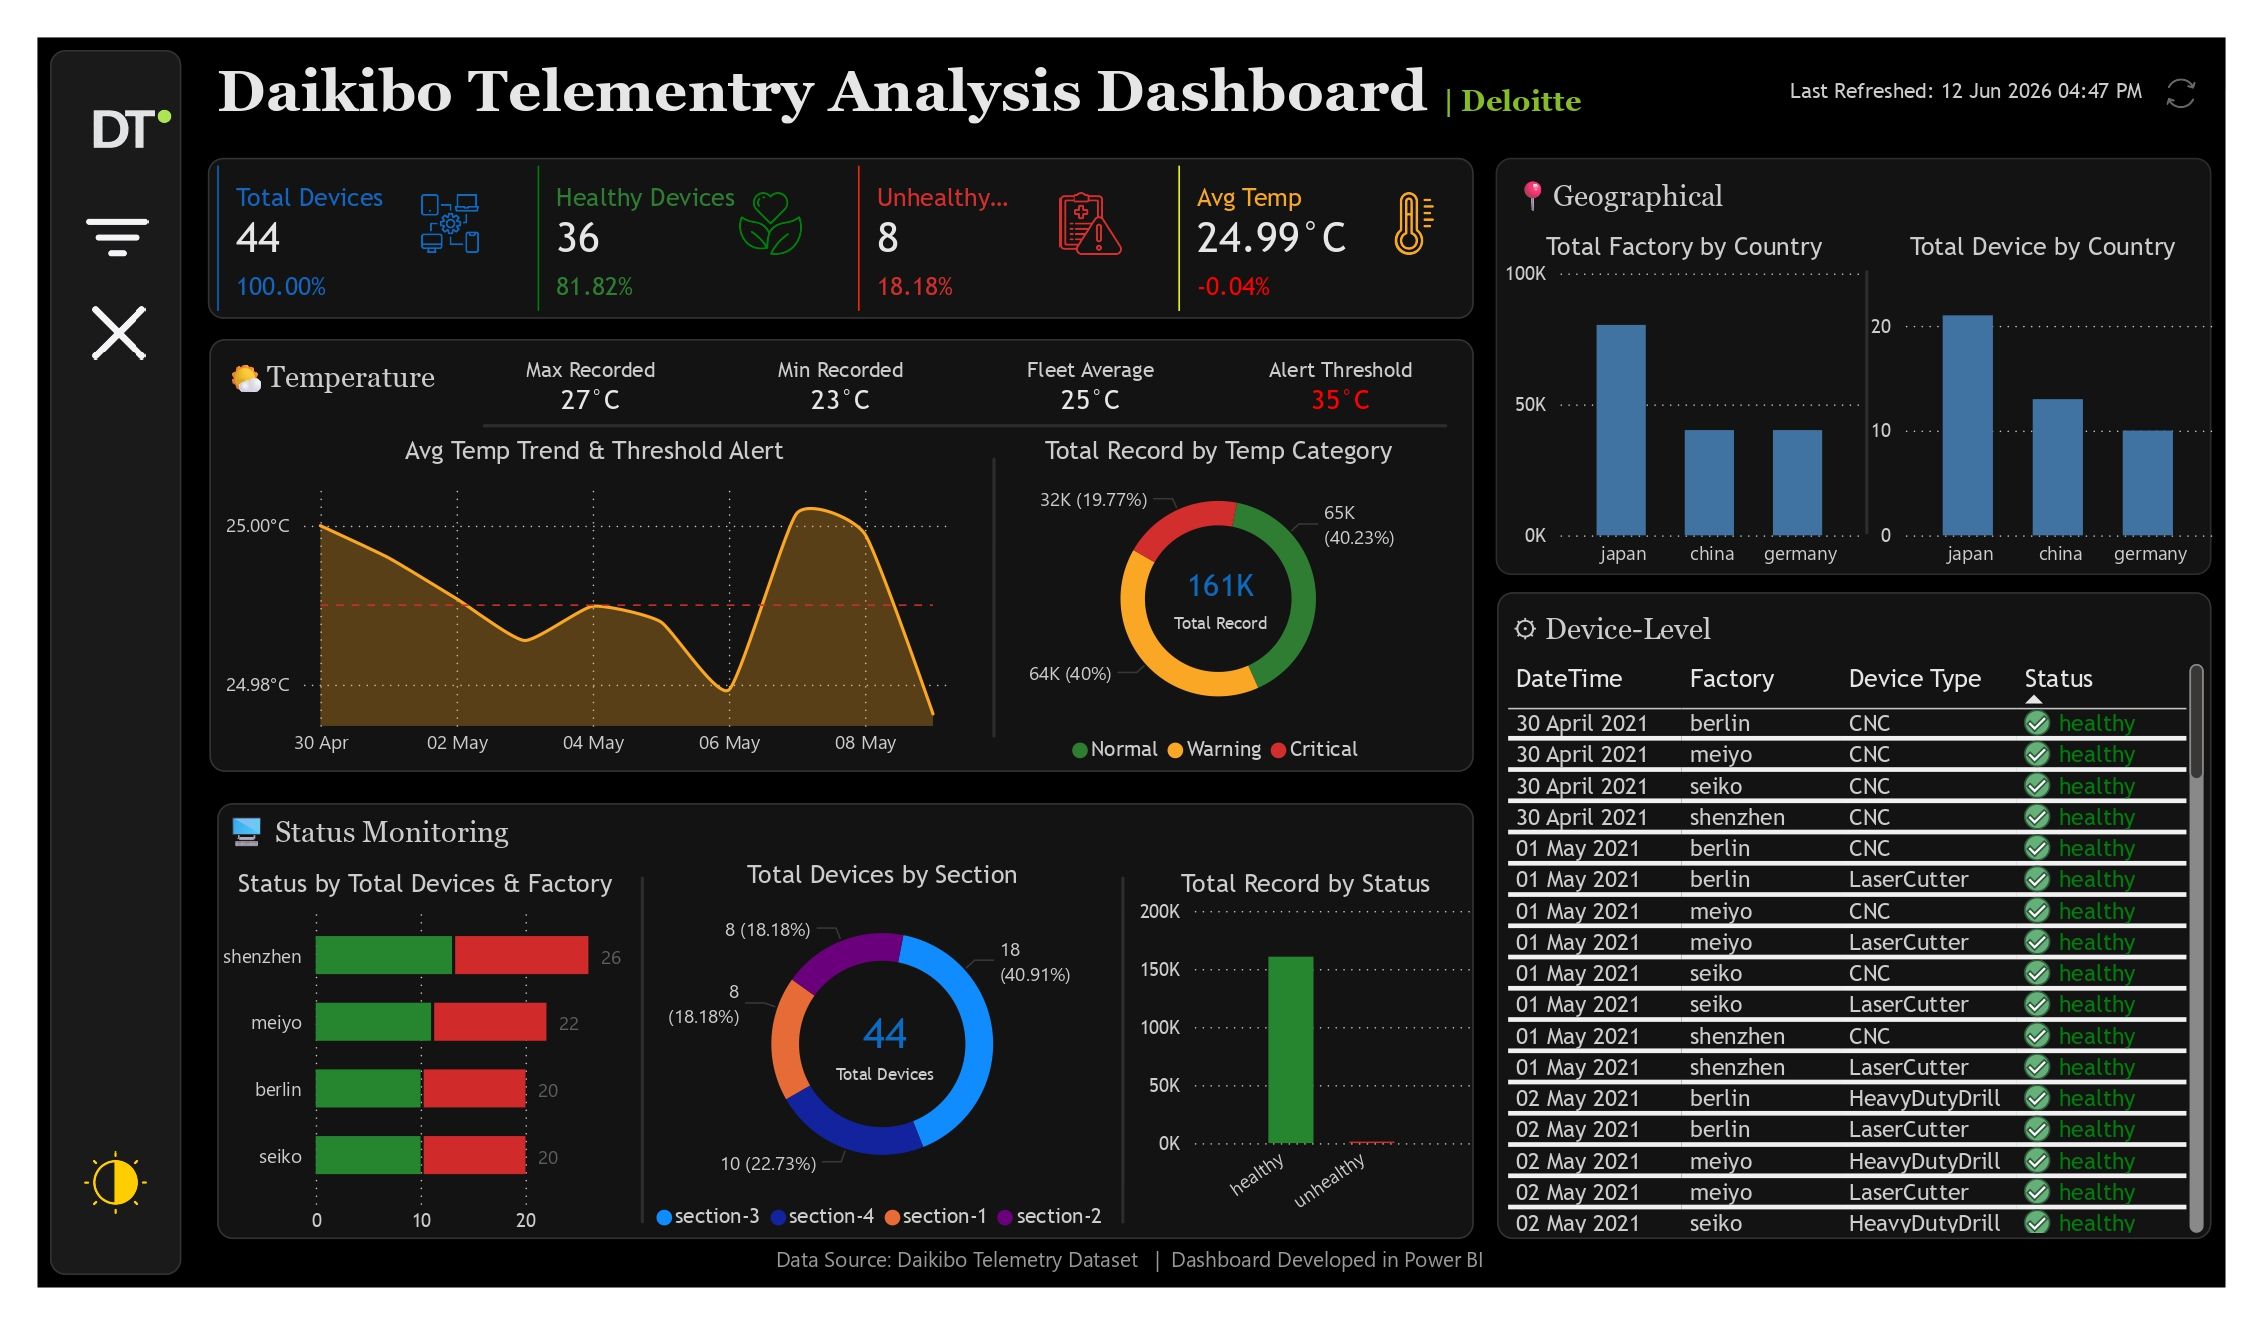

The dashboard page shown, as its layout file describes it:
{"tool":"powerbi","page":{"name":"Dashboard","canvas":[1400,800],"ordinal":0},"visuals":[{"type":"shape","box":[933.8,355.4,457.5,413.4],"z":0},{"type":"shape","box":[110,192.5,808.8,277],"z":1000},{"type":"shape","box":[8.3,8.3,83.3,783.3],"z":2000},{"type":"shape","box":[109.5,77,809.5,102.7],"z":3000},{"type":"textbox","box":[110,8.3,918.3,52],"z":4000},{"type":"shape","box":[932.6,76.9,458.7,267.2],"z":5000},{"type":"shape","box":[110,484.3,808.6,284.3],"z":6000},{"type":"textbox","box":[115.7,198.6,152.9,37.1],"z":7000},{"type":"textbox","box":[115.7,490,200,35.7],"z":8000},{"type":"textbox","box":[938.9,83.2,160.1,35.3],"z":9000},{"type":"textbox","box":[938.9,360.4,147.4,35.3],"z":10000},{"type":"image","box":[0,0,99,99],"z":11000},{"type":"cardVisual","fields":{"Data":["daikibo-telemetry-data.Total Devices","daikibo-telemetry-data.Healthy Devices","daikibo-telemetry-data.Unhealthy Devices","daikibo-telemetry-data.Avg Temperature"]},"box":[109.5,77,791.9,102.7],"z":12000},{"type":"cardVisual","fields":{"Data":["daikibo-telemetry-data.Max Recorded","daikibo-telemetry-data.Min Recorded","daikibo-telemetry-data.Fleet Average","daikibo-telemetry-data.Alert Threshold"]},"box":[268.6,192.9,650,55.7],"z":13000},{"type":"tableEx","fields":{"Values":["daikibo-telemetry-data.DateTime","daikibo-telemetry-data.Factory","daikibo-telemetry-data.Device Type","daikibo-telemetry-data.Status"]},"box":[935.1,395.7,456.2,374.3],"z":14000},{"type":"columnChart","title":"Total Factory by Country","fields":{"Category":["daikibo-telemetry-data.Country"],"Y":["CountNonNull(daikibo-telemetry-data.Factory)"]},"box":[933.8,118.5,234.4,225.6],"z":15000},{"type":"areaChart","title":"Avg Temp Trend & Threshold Alert","fields":{"Category":["daikibo-telemetry-data.DateTime"],"Y2":["daikibo-telemetry-data.Alert Threshold"],"Y":["daikibo-telemetry-data.Avg Temperature"]},"box":[115,255,478.3,215],"z":16000},{"type":"donutChart","title":"Total Record by Temp Category","fields":{"Y":["daikibo-telemetry-data.Device Count"],"Category":["daikibo-telemetry-data.Temp Category"]},"box":[593.3,255,325,215],"z":17000},{"type":"card","fields":{"Values":["daikibo-telemetry-data.Device Count"]},"box":[711.7,328.3,90,60],"z":18000},{"type":"shape","box":[605.6,269,12.7,178.9],"z":19000},{"type":"shape","box":[285,241.7,616.7,13.3],"z":20000},{"type":"barChart","title":"Status by Total Devices & Factory","fields":{"Category":["daikibo-telemetry-data.Factory"],"Y":["daikibo-telemetry-data.Total Devices"],"Series":["daikibo-telemetry-data.Status"]},"box":[109.6,525.5,271,243.2],"z":21000},{"type":"shape","box":[380.6,536.9,12.6,221.8],"z":22000},{"type":"columnChart","title":"Total Device by Country","fields":{"Category":["daikibo-telemetry-data.Country"],"Y":["daikibo-telemetry-data.Total Devices"]},"box":[1168.2,118.5,224.3,225.6],"z":23000},{"type":"shape","box":[1164.5,148.7,12.6,168.9],"z":24000},{"type":"donutChart","fields":{"Category":["daikibo-telemetry-data.Section","daikibo-telemetry-data.Device Type"],"Y":["daikibo-telemetry-data.Total Devices"]},"box":[393.2,525.5,294.9,243.2],"z":25000},{"type":"card","fields":{"Values":["daikibo-telemetry-data.Total Devices"]},"box":[496.7,611.7,90,63.3],"z":26000},{"type":"shape","box":[688.2,537.4,12.7,221.8],"z":27000},{"type":"columnChart","title":"Total Record by Status","fields":{"Category":["daikibo-telemetry-data.Status"],"Y":["daikibo-telemetry-data.Total Records"]},"box":[699.6,526,218,242.1],"z":28000},{"type":"textbox","box":[460,768.3,478.3,31.7],"z":29000},{"type":"card","fields":{"Values":["daikibo-telemetry-data.Last Refresh Display"]},"box":[1108.3,21.7,251.7,26.7],"z":30000},{"type":"image","box":[1355,18.3,33.3,33.3],"z":31000},{"type":"image","box":[29.7,166.2,44.6,44.6],"z":31002},{"type":"image","box":[25.7,102.7,50,50],"z":31003},{"type":"image","box":[25.7,717.6,50,50],"z":31004}]}

Visuals, with their boxes on the page's 1400x800 design canvas (x1, y1, x2, y2). These are canvas units, not pixel positions in the 2263x1325 screenshot, which may show the page scaled, cropped or inside an application window:
shape: 934, 355, 1391, 769
shape: 110, 192, 919, 470
shape: 8, 8, 92, 792
shape: 110, 77, 919, 180
textbox: 110, 8, 1028, 60
shape: 933, 77, 1391, 344
shape: 110, 484, 919, 769
textbox: 116, 199, 269, 236
textbox: 116, 490, 316, 526
textbox: 939, 83, 1099, 118
textbox: 939, 360, 1086, 396
image: 0, 0, 99, 99
cardVisual - daikibo-telemetry-data.Total Devices x daikibo-telemetry-data.Healthy Devices: 110, 77, 901, 180
cardVisual - daikibo-telemetry-data.Max Recorded x daikibo-telemetry-data.Min Recorded: 269, 193, 919, 249
tableEx - daikibo-telemetry-data.DateTime x daikibo-telemetry-data.Factory: 935, 396, 1391, 770
"Total Factory by Country" columnChart: 934, 118, 1168, 344
"Avg Temp Trend & Threshold Alert" areaChart: 115, 255, 593, 470
"Total Record by Temp Category" donutChart: 593, 255, 918, 470
card - daikibo-telemetry-data.Device Count: 712, 328, 802, 388
shape: 606, 269, 618, 448
shape: 285, 242, 902, 255
"Status by Total Devices & Factory" barChart: 110, 526, 381, 769
shape: 381, 537, 393, 759
"Total Device by Country" columnChart: 1168, 118, 1392, 344
shape: 1164, 149, 1177, 318
donutChart - daikibo-telemetry-data.Section x daikibo-telemetry-data.Device Type: 393, 526, 688, 769
card - daikibo-telemetry-data.Total Devices: 497, 612, 587, 675
shape: 688, 537, 701, 759
"Total Record by Status" columnChart: 700, 526, 918, 768
textbox: 460, 768, 938, 800
card - daikibo-telemetry-data.Last Refresh Display: 1108, 22, 1360, 48
image: 1355, 18, 1388, 52
image: 30, 166, 74, 211
image: 26, 103, 76, 153
image: 26, 718, 76, 768
